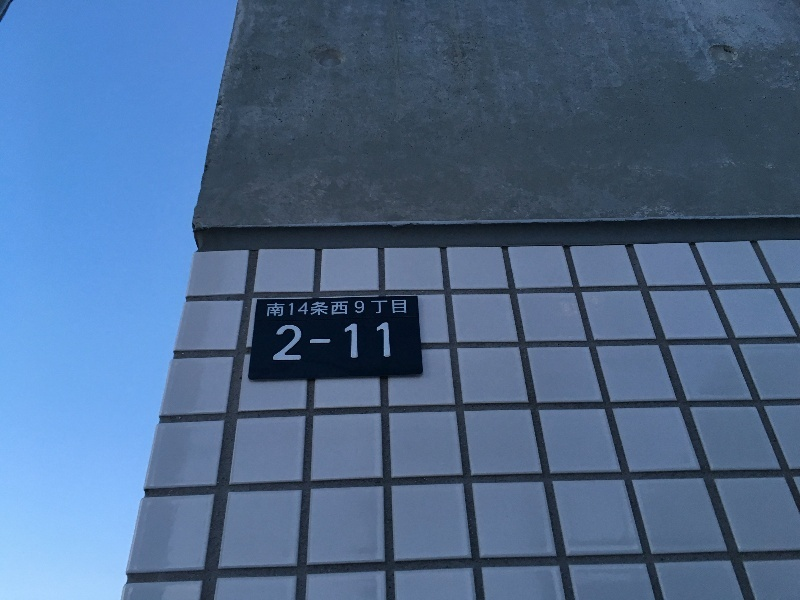text: (289, 321, 304, 364), (305, 321, 320, 364), (321, 321, 336, 364), (337, 321, 352, 364), (353, 321, 368, 364), (369, 321, 384, 364), (278, 321, 288, 364), (385, 321, 392, 364), (273, 299, 288, 319), (289, 299, 304, 319), (305, 299, 320, 319), (321, 299, 336, 319), (337, 299, 352, 319), (353, 299, 368, 319), (369, 299, 384, 319), (385, 299, 400, 319), (401, 299, 408, 319), (266, 299, 272, 319)
